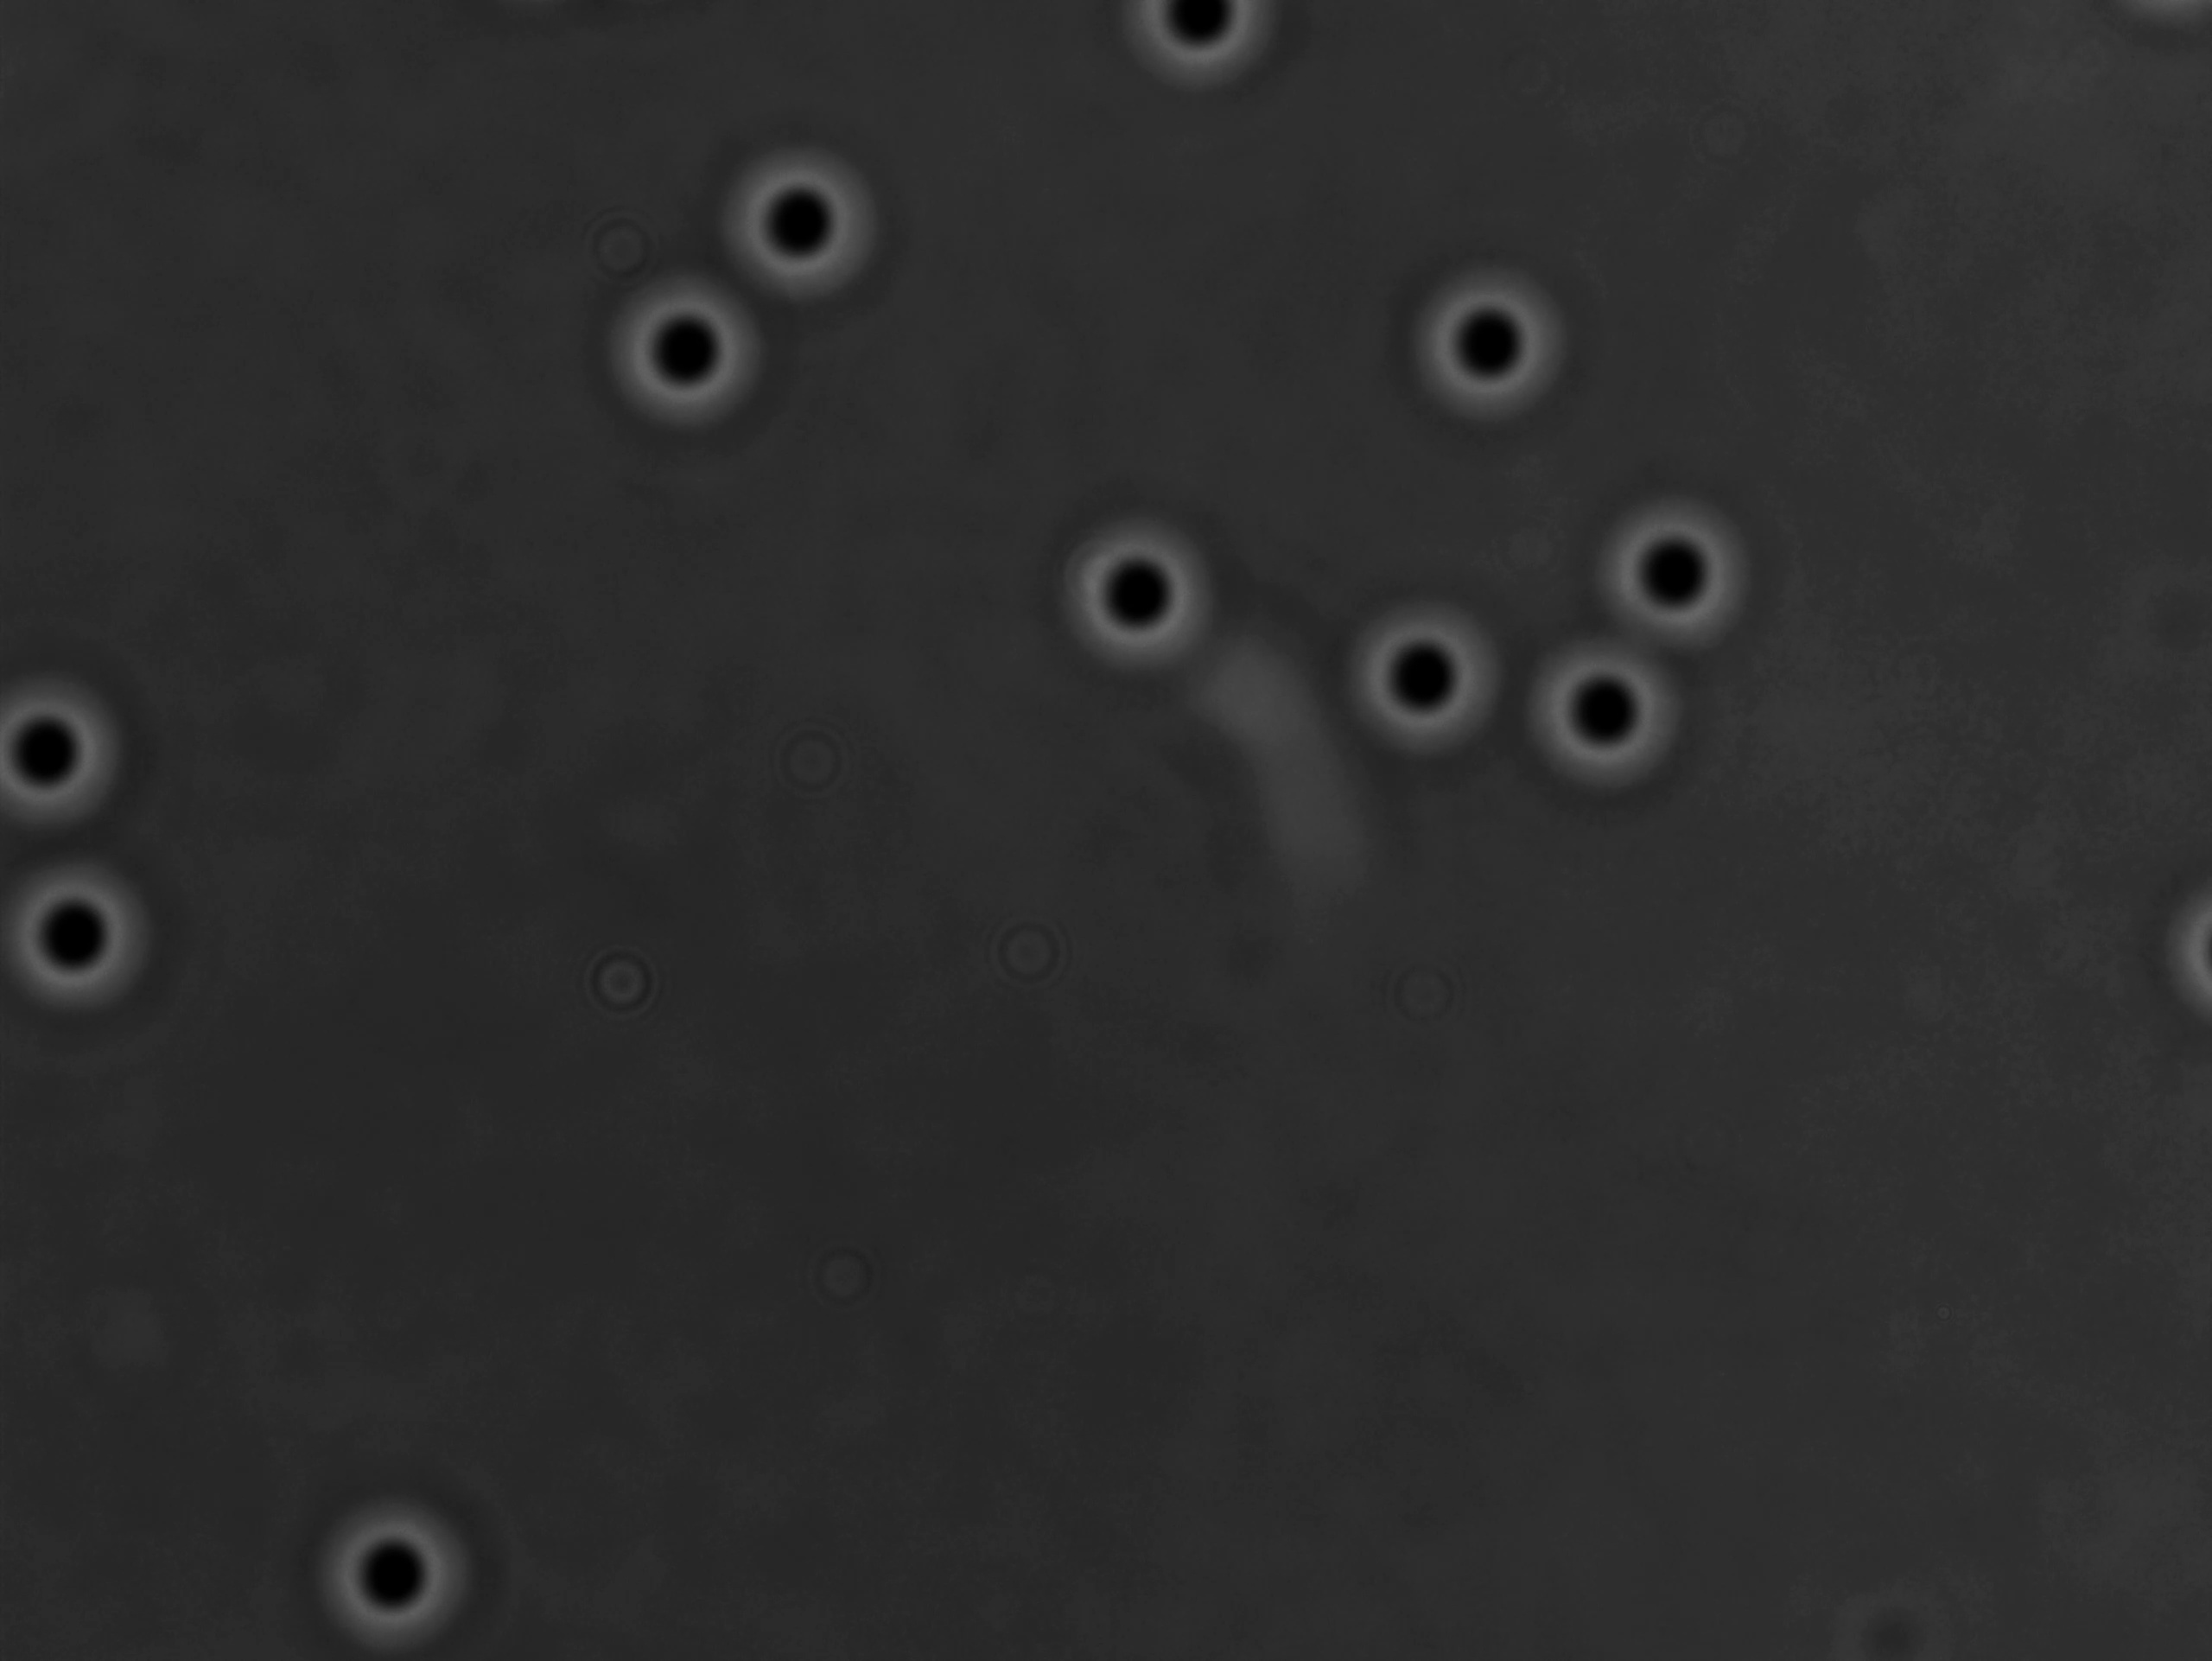depth:-80: (1392, 255, 1591, 438), (288, 1483, 481, 1661), (1518, 614, 1690, 806), (1584, 476, 1765, 656), (600, 263, 785, 440), (712, 133, 888, 318), (1047, 513, 1228, 684), (1343, 588, 1516, 766)
